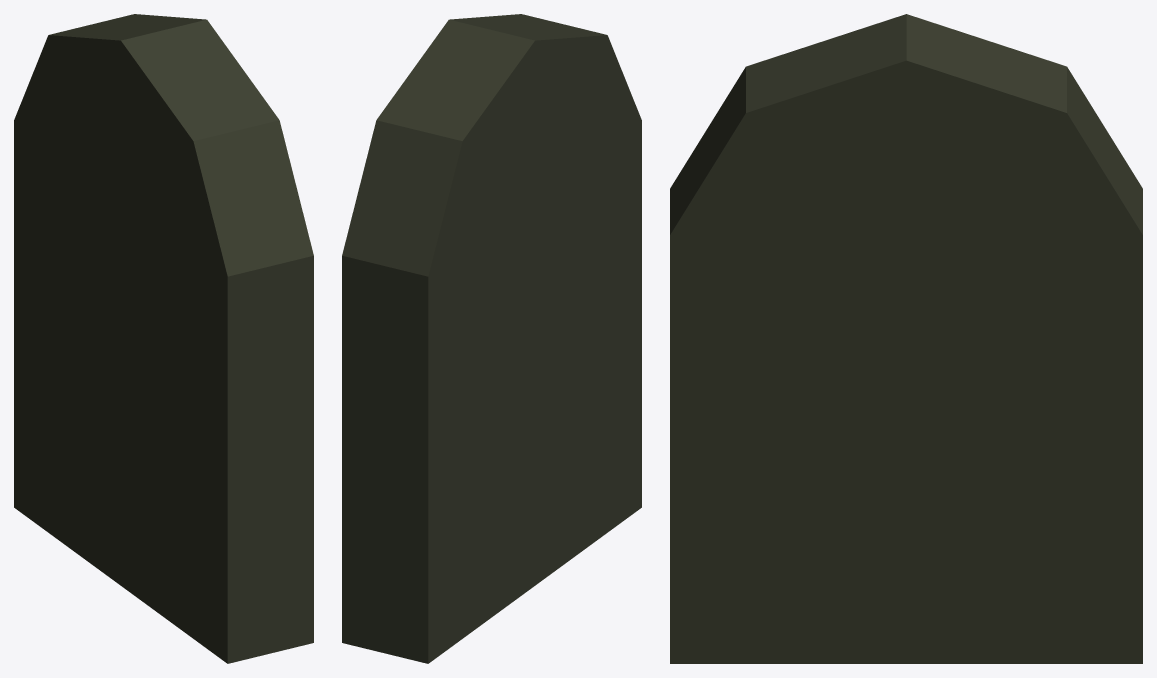
Rendered from headstone.obj.
3 views of the same model, side by side, from view 1: azimuth 30°, elevation 25°; view 2: azimuth 150°, elevation 25°; view 3: azimuth 270°, elevation 25° (orthographic). The views are drawn at different scales.
Parts seen in each view (by area): view 1: Cube_Cube.001; view 2: Cube_Cube.001; view 3: Cube_Cube.001.
Part boxes in pixels (box(x1,y1,x2,y2)): Cube_Cube.001: box(14, 14, 313, 663); Cube_Cube.001: box(342, 14, 641, 663); Cube_Cube.001: box(670, 14, 1142, 663).
Bounding box in the file's own units: 0.4659 × 2.82 × 2.
